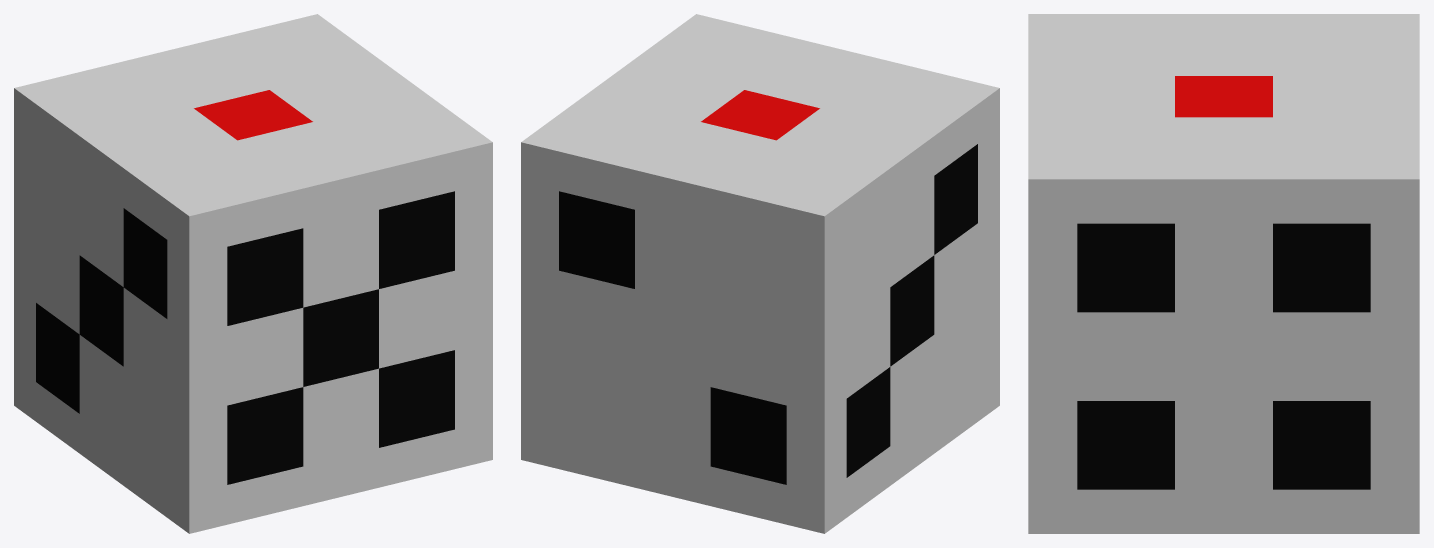
The model's file is dice.fbx.
The picture shows the model from 3 angles, left to right: view 1: azimuth 30°, elevation 25°; view 2: azimuth 150°, elevation 25°; view 3: azimuth 270°, elevation 25°; orthographic projection. The views are drawn at different scales.
Visible parts, largest first — view 1: pCube1; view 2: pCube1; view 3: pCube1.
Boxes of the visible parts, <box> form: pCube1: <box>14,14,492,533</box>; pCube1: <box>521,14,999,533</box>; pCube1: <box>1028,14,1419,533</box>.
Bounding box in the file's own units: 1 × 1 × 1.
